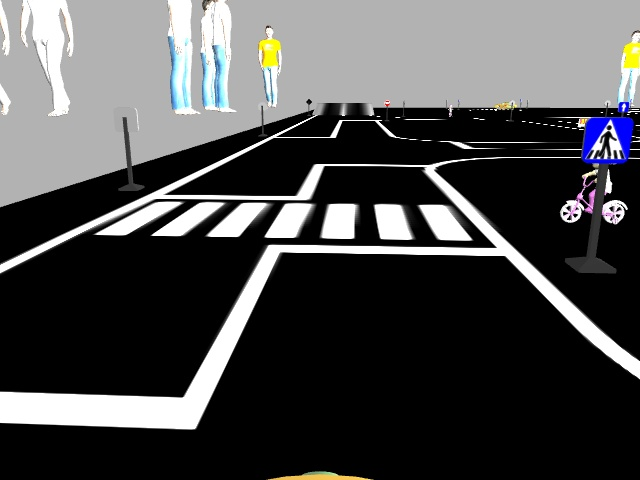Crosswalk: (581, 116, 633, 163)
Pedestrian: (560, 161, 629, 226)
